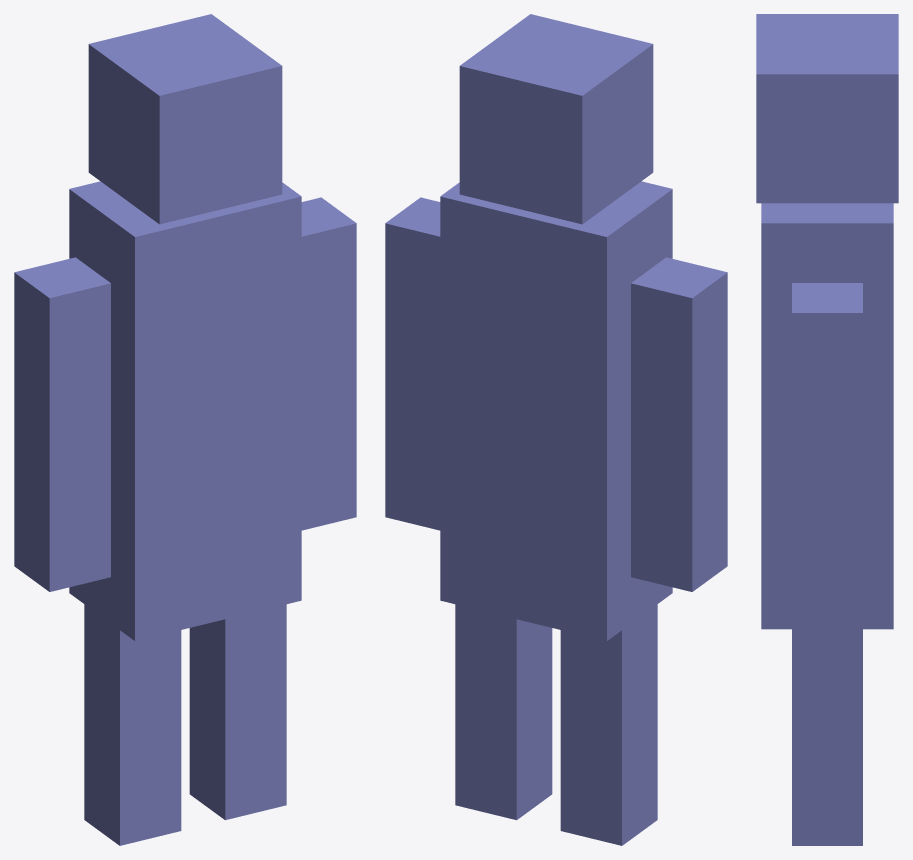
Rendered from Mage.glb.
The picture shows the model from 3 angles, left to right: view 1: azimuth 30°, elevation 25°; view 2: azimuth 150°, elevation 25°; view 3: azimuth 270°, elevation 25°; orthographic projection.
Parts seen in each view (by area): view 1: filler_Mage; view 2: filler_Mage; view 3: filler_Mage.
Boxes of the visible parts, bbox=[...] form: filler_Mage: bbox=[14, 14, 356, 845]; filler_Mage: bbox=[385, 14, 727, 845]; filler_Mage: bbox=[756, 14, 898, 845].
Bounding box in the file's own units: 0.7 × 1.65 × 0.28.
